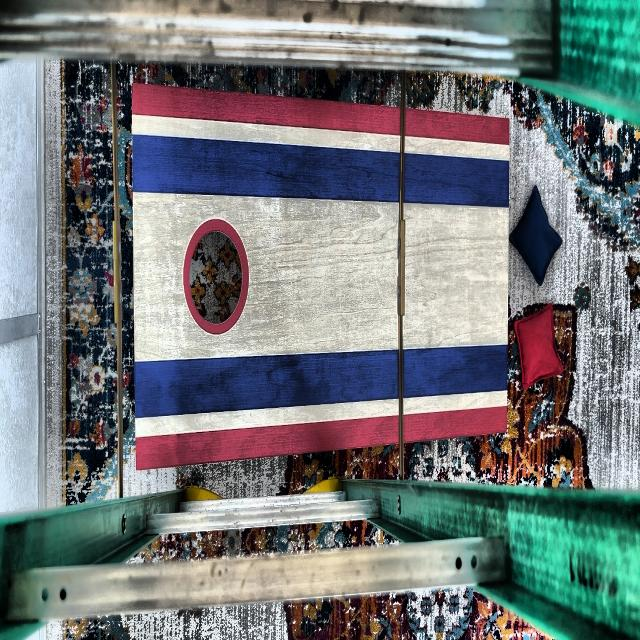blue-bean-bag: (510, 183, 562, 286)
board: (136, 118, 505, 430)
hole: (183, 218, 250, 335)
red-bean-bag: (514, 301, 565, 391)
